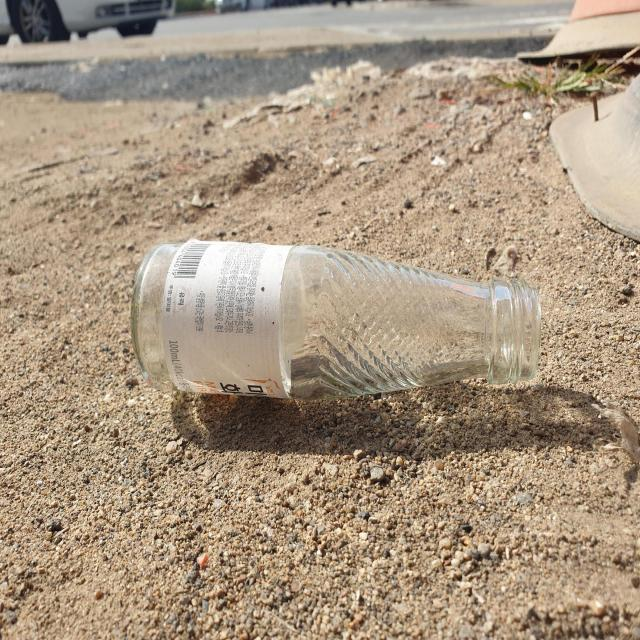glass: (131, 238, 542, 400)
